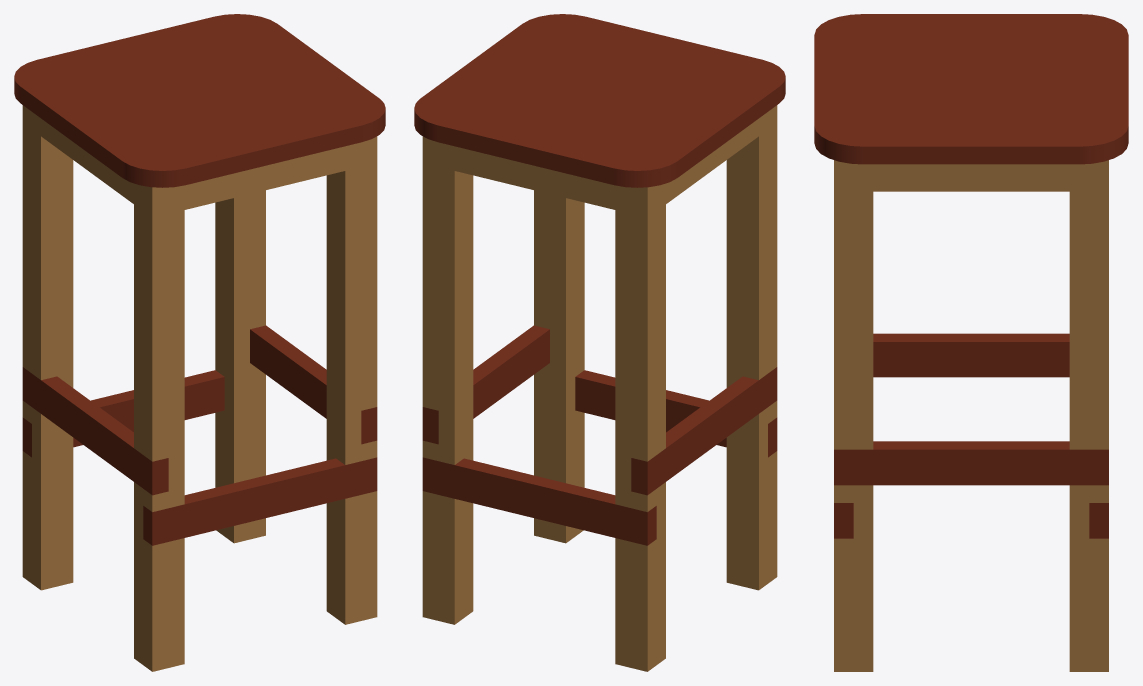
Rendered from Stool.glb.
3 renders of one model, left to right at view 1: azimuth 30°, elevation 25°; view 2: azimuth 150°, elevation 25°; view 3: azimuth 270°, elevation 25°, orthographic. The views are drawn at different scales.
Visible parts, largest first — view 1: Object_3, Object_2; view 2: Object_3, Object_2; view 3: Object_2, Object_3.
Boxes of the visible parts, left/top/right/bottom form: Object_3: left=22, top=105, right=377, bottom=671; Object_2: left=14, top=14, right=385, bottom=545; Object_3: left=422, top=105, right=777, bottom=671; Object_2: left=414, top=14, right=785, bottom=545; Object_2: left=814, top=14, right=1128, bottom=538; Object_3: left=834, top=160, right=1108, bottom=671.
Bounding box in the file's own units: 0.5037 × 0.9444 × 0.5037.
